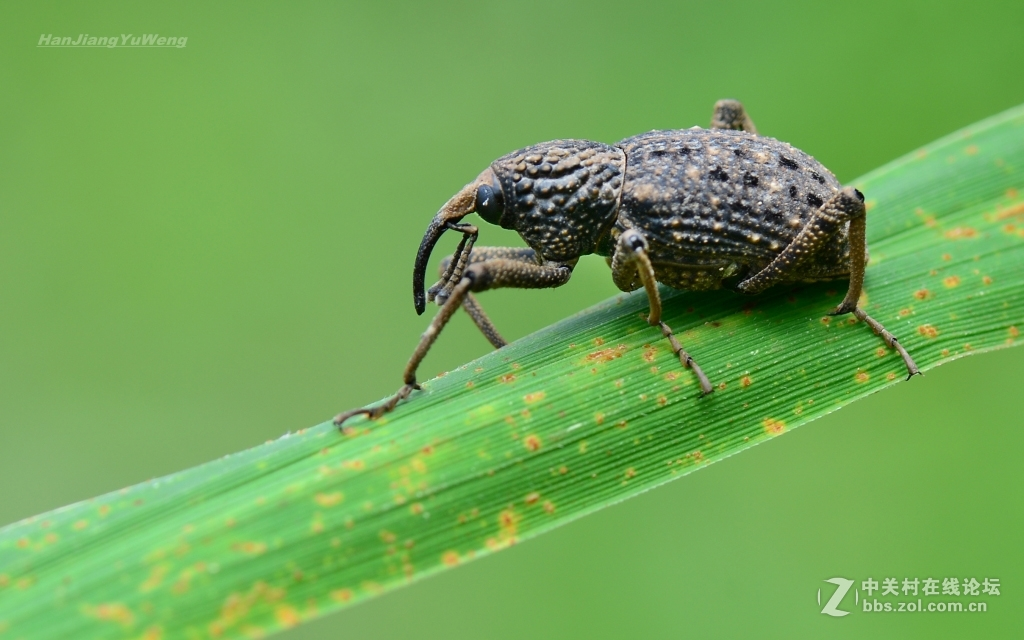Curculionidae: (333, 98, 925, 433)
